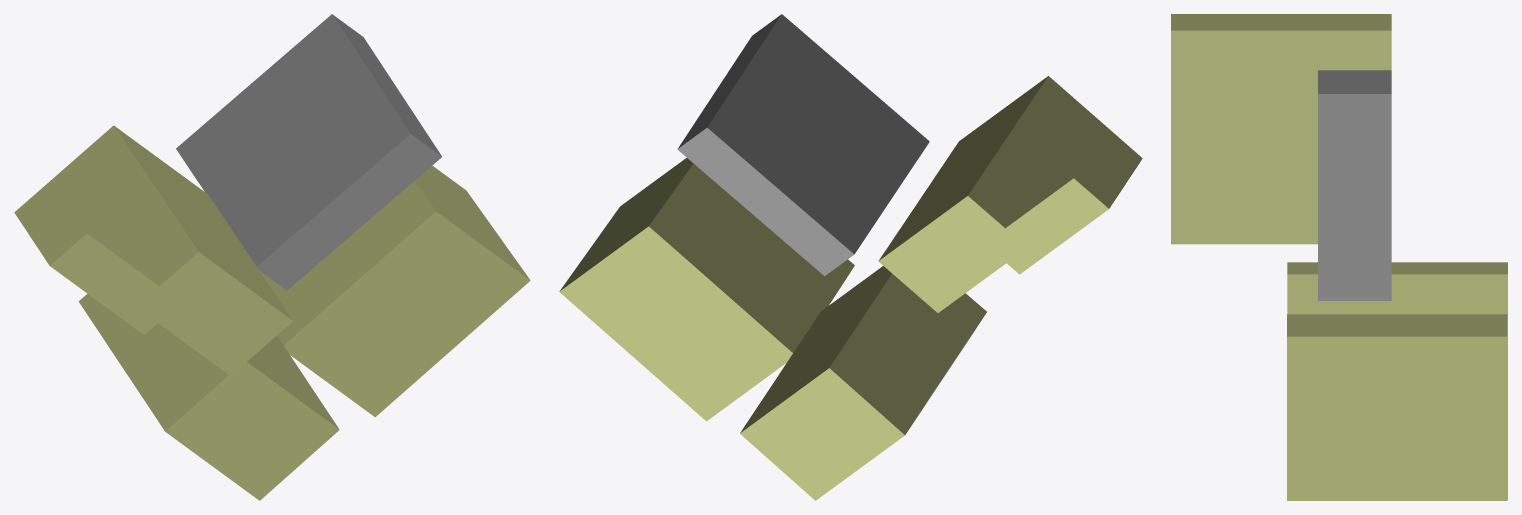
3 renders of one model, left to right at view 1: azimuth 30°, elevation 25°; view 2: azimuth 150°, elevation 25°; view 3: azimuth 270°, elevation 25°, orthographic. The views are drawn at different scales.
Visible parts, largest first — view 1: 0_1_1_3_2_2_3_3_0_1; view 2: 0_1_1_3_2_2_3_3_0_1; view 3: 0_1_1_3_2_2_3_3_0_1.
Part boxes in pixels (box(x1,y1,x2,y2)): 0_1_1_3_2_2_3_3_0_1: box(14, 14, 530, 500); 0_1_1_3_2_2_3_3_0_1: box(559, 14, 1142, 500); 0_1_1_3_2_2_3_3_0_1: box(1171, 14, 1507, 500).
Size of the model in its own units: 25.92 by 22.36 by 13.75.
